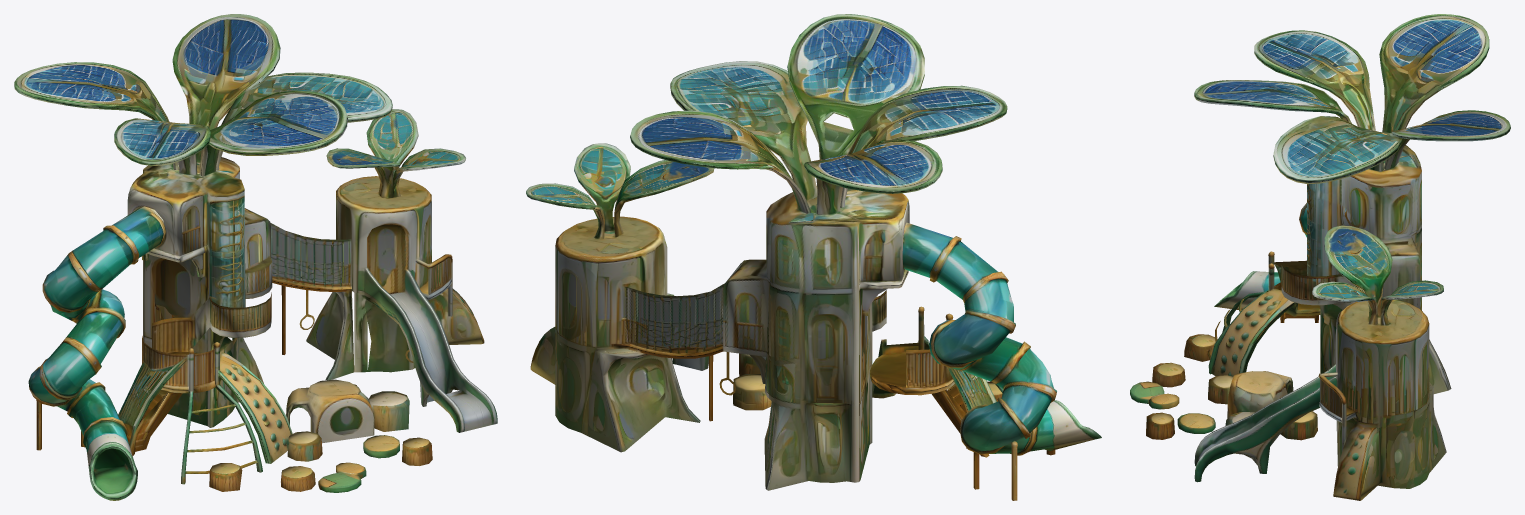
The model's file is playground.glb.
The picture shows the model from 3 angles, left to right: view 1: azimuth 30°, elevation 25°; view 2: azimuth 150°, elevation 25°; view 3: azimuth 270°, elevation 25°; orthographic projection. The views are drawn at different scales.
Parts seen in each view (by area): view 1: tripo_22cbd7cc_5279_41a5_ad62_c4585c04f9f4; view 2: tripo_22cbd7cc_5279_41a5_ad62_c4585c04f9f4; view 3: tripo_22cbd7cc_5279_41a5_ad62_c4585c04f9f4.
Part boxes in pixels (x1,y1,x2,y2): tripo_22cbd7cc_5279_41a5_ad62_c4585c04f9f4: (14,14,497,500); tripo_22cbd7cc_5279_41a5_ad62_c4585c04f9f4: (526,14,1101,500); tripo_22cbd7cc_5279_41a5_ad62_c4585c04f9f4: (1130,14,1510,500).
Bounding box in the file's own units: 0.9995 × 0.6997 × 0.7563.
1 material, 1 textured.
